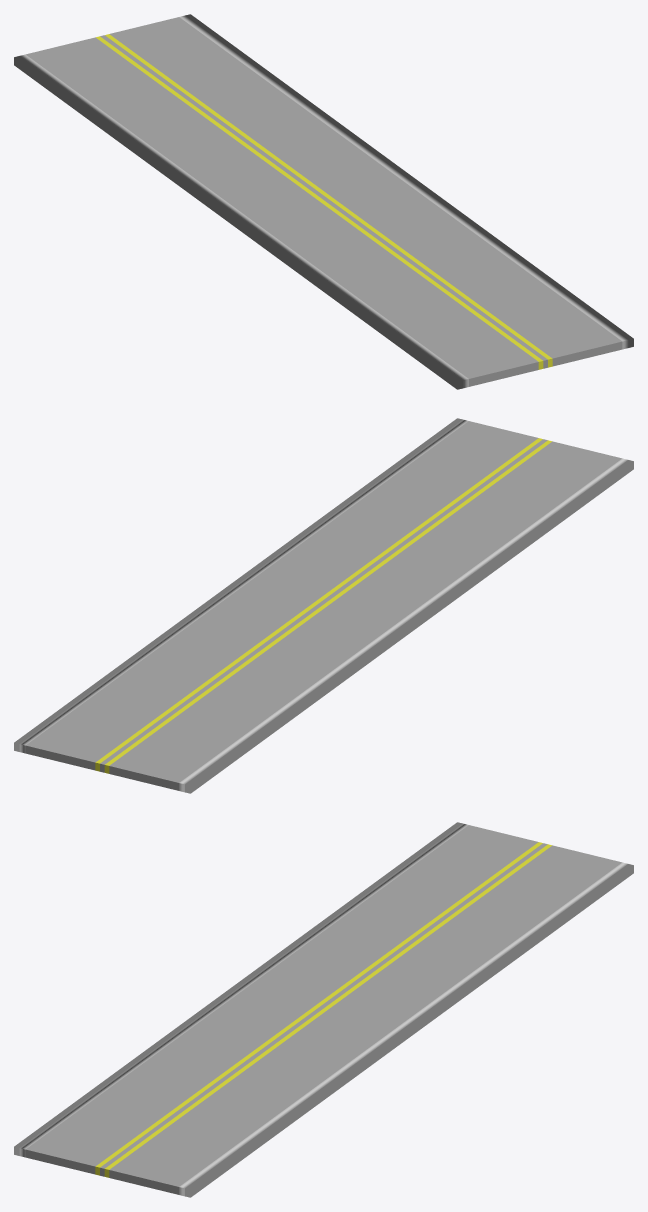
Rendered from Road_Straight_2.fbx.
3 views of the same model, one above another, from view 1: azimuth 30°, elevation 25°; view 2: azimuth 150°, elevation 25°; view 3: azimuth 330°, elevation 25° (orthographic).
Visible parts, largest first — view 1: pCube25; view 2: pCube25; view 3: pCube25.
Part boxes in pixels (x1,y1,x2,y2): pCube25: (14,14,633,389); pCube25: (14,418,633,793); pCube25: (14,822,633,1197).
Bounding box in the file's own units: 23 × 1 × 100.
